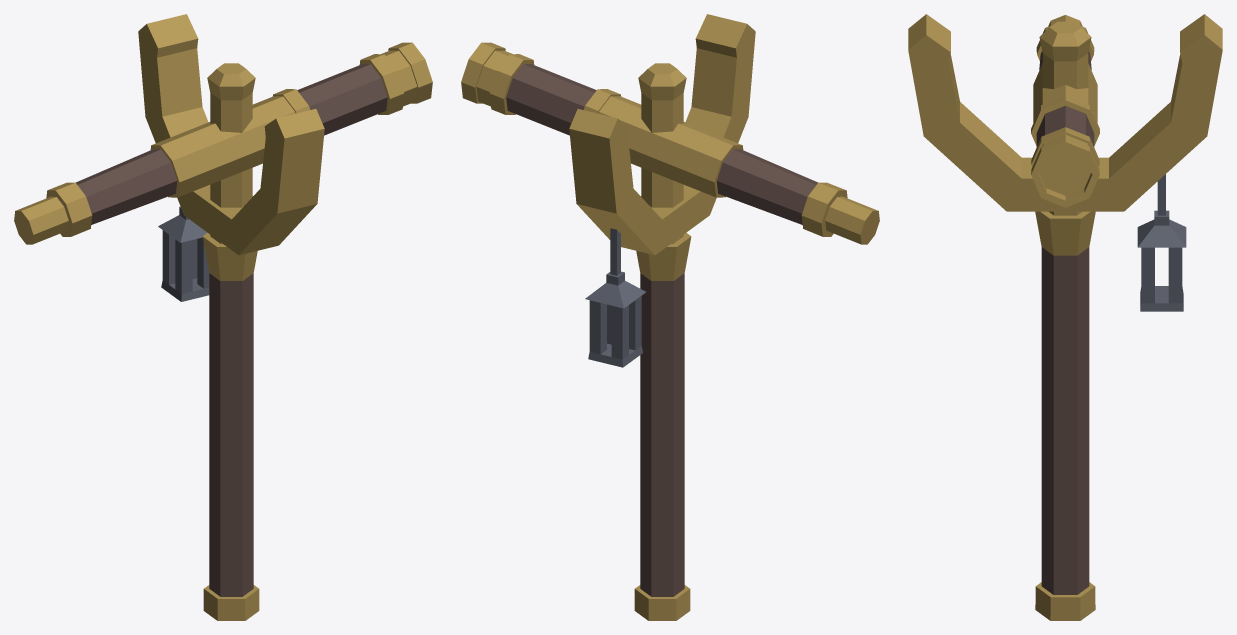
The model's file is telescope.glb.
3 renders of one model, left to right at view 1: azimuth 30°, elevation 25°; view 2: azimuth 150°, elevation 25°; view 3: azimuth 270°, elevation 25°, orthographic. The views are drawn at different scales.
Parts seen in each view (by area): view 1: Limgrave Eagleview Telescope.001; view 2: Limgrave Eagleview Telescope.001; view 3: Limgrave Eagleview Telescope.001.
Boxes of the visible parts, box(x1,y1,x2,y2) form: Limgrave Eagleview Telescope.001: box(14, 14, 432, 620); Limgrave Eagleview Telescope.001: box(461, 14, 879, 620); Limgrave Eagleview Telescope.001: box(908, 14, 1222, 620).
Size of the model in its own units: 0.1151 by 0.1498 by 0.073.
